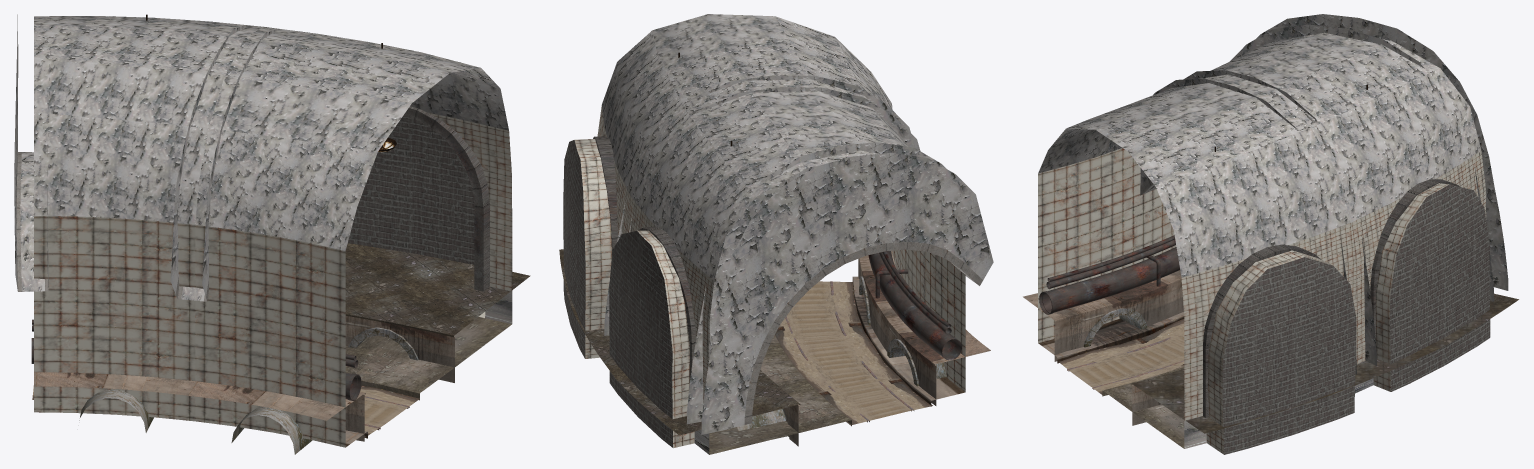
File: FBX_corner_section_rev.fbx
3 views of the same model, side by side, from view 1: azimuth 30°, elevation 25°; view 2: azimuth 150°, elevation 25°; view 3: azimuth 270°, elevation 25° (orthographic). The views are drawn at different scales.
Parts seen in each view (by area): view 1: curve_section_ceiling, curve_section_tile_wall, curve_section_brick_wall, curve_section, curve_section_upper_floor, curve_section_drains_b, curve_section_wall_arches, curve_section_drain_b, curve_section_drains_a, curve_section_dirt, curve_section_arch_2_bricks; view 2: curve_section_ceiling, curve_section, curve_section_tile_wall, curve_section_brick_wall, curve_section_dirt, curve_section_drain_b, curve_section_upper_floor, curve_section_arch_2_bricks, curve_section_wall_arches, curve_section_drain_pipe_a, curve_section_drains_b, curve_section_drains_a (+3 smaller); view 3: curve_section_ceiling, curve_section_brick_wall, curve_section_tile_wall, curve_section, curve_section_drains_b, curve_section_dirt, curve_section_upper_floor, curve_section_drain_pipe_a, curve_section_wall_arches, curve_section_drain_pipe_b, curve_section_drain_pipe_d, curve_section_drains_a (+1 smaller).
Boxes of the visible parts, box(x1,y1,x2,y2) form: curve_section_ceiling: box(34, 16, 512, 324); curve_section_tile_wall: box(34, 113, 512, 447); curve_section_brick_wall: box(348, 116, 474, 264); curve_section: box(14, 14, 511, 447); curve_section_upper_floor: box(345, 243, 530, 337); curve_section_drains_b: box(186, 381, 365, 454); curve_section_wall_arches: box(403, 106, 489, 291); curve_section_drain_b: box(34, 372, 194, 432); curve_section_drains_a: box(345, 316, 454, 382); curve_section_dirt: box(32, 385, 419, 437); curve_section_arch_2_bricks: box(16, 146, 48, 291); curve_section_ceiling: box(602, 14, 908, 454); curve_section: box(604, 75, 993, 454); curve_section_tile_wall: box(574, 105, 965, 448); curve_section_brick_wall: box(563, 140, 672, 447); curve_section_dirt: box(775, 281, 932, 425); curve_section_drain_b: box(877, 303, 990, 405); curve_section_upper_floor: box(559, 249, 800, 435); curve_section_arch_2_bricks: box(744, 241, 982, 424); curve_section_wall_arches: box(593, 136, 695, 382); curve_section_drain_pipe_a: box(868, 251, 961, 360); curve_section_drains_b: box(858, 250, 895, 339); curve_section_drains_a: box(737, 404, 799, 446); curve_section_ceiling: box(1038, 32, 1481, 448); curve_section_brick_wall: box(1222, 184, 1490, 454); curve_section_tile_wall: box(1038, 148, 1486, 454); curve_section: box(1038, 14, 1508, 448); curve_section_drains_b: box(1023, 277, 1173, 361); curve_section_dirt: box(1059, 319, 1184, 394); curve_section_upper_floor: box(1131, 293, 1518, 433); curve_section_drain_pipe_a: box(1039, 247, 1179, 314); curve_section_wall_arches: box(1203, 179, 1459, 417); curve_section_drain_pipe_b: box(1046, 239, 1175, 289); curve_section_drain_pipe_d: box(1047, 235, 1174, 281); curve_section_drains_a: box(1132, 384, 1161, 425).
Size of the model in its own units: 29.17 by 28.83 by 17.85.
